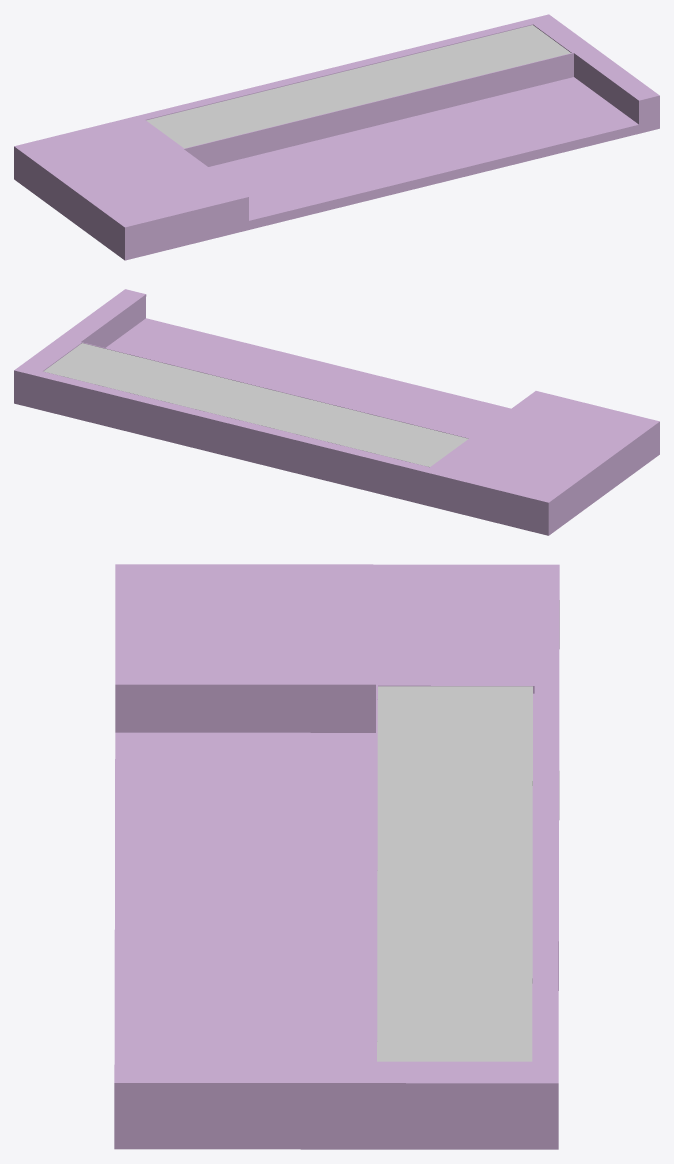
Rendered from casioFrame.gltf.
The picture shows the model from 3 angles, top to bottom: view 1: azimuth 30°, elevation 25°; view 2: azimuth 150°, elevation 25°; view 3: azimuth 270°, elevation 25°; orthographic projection. The views are drawn at different scales.
Parts seen in each view (by area): view 1: KeyboardBase, Cube; view 2: KeyboardBase, Cube; view 3: KeyboardBase, Cube.
Boxes of the visible parts, left/top/right/bottom form: KeyboardBase: left=14, top=14, right=659, bottom=260; Cube: left=146, top=25, right=570, bottom=148; KeyboardBase: left=14, top=289, right=659, bottom=535; Cube: left=43, top=343, right=468, bottom=467; KeyboardBase: left=114, top=564, right=559, bottom=1149; Cube: left=377, top=686, right=532, bottom=1061.
Size of the model in its own units: 4.82 by 0.3007 by 1.74.
